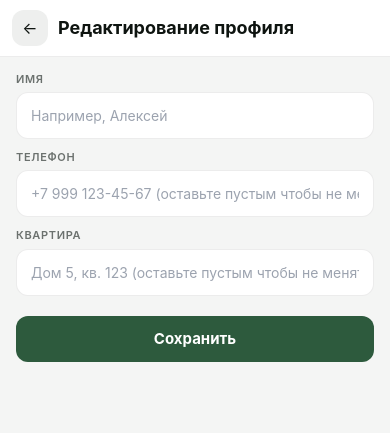
Test case: EditProfileScreen › submit без имени → form-error
Check: the field with test id "input-display-name" is empty, box [16,92,374,139]
Click the button with test id "submit-btn": click(195, 339) [16,316,374,362]
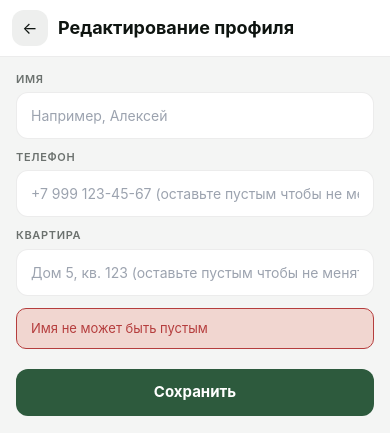
Check: the text with test id "form-error" reads "Имя не может быть пустым", box [31,320,208,336]
